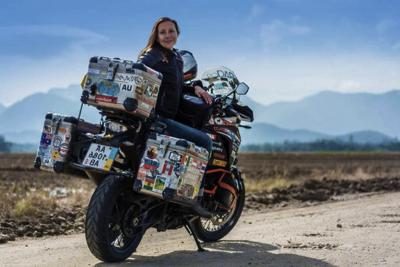With Helmet: (150, 13, 182, 51)
